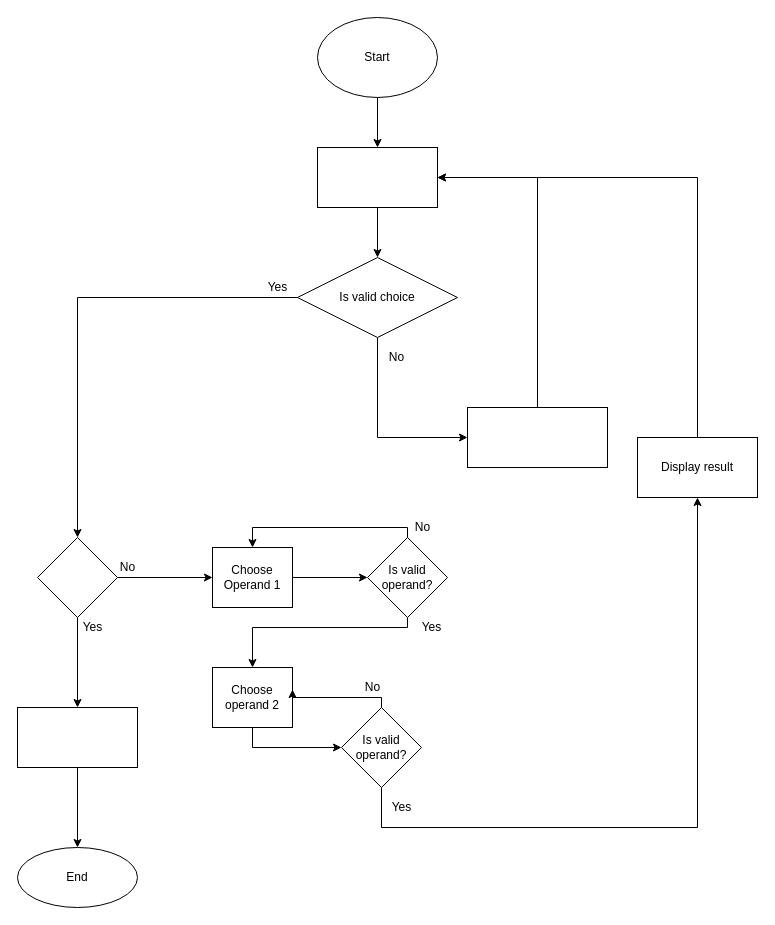
Some shapes in this 775 by 925 pixel diagram are drawn without their labels. Here are the shapes that lost their labels. From the top down, the centre of each, then its label:
pixel 377 177: Ask for choice
pixel 537 437: Display invalid choice message
pixel 77 577: Is quit chosen?
pixel 77 737: Display thank you message
